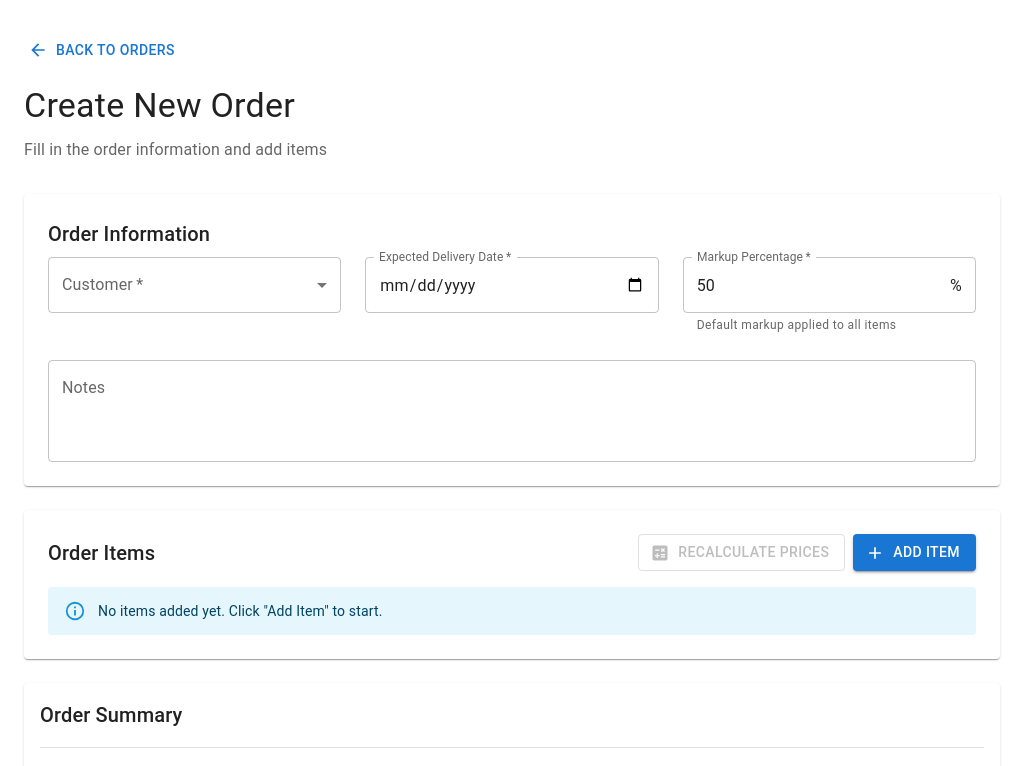
OrderForm Page › Dynamic Order Items Array › removes all items shows "no items" message
Step 1. Click the button "Add Item" → (915, 553), box [853, 534, 976, 571]
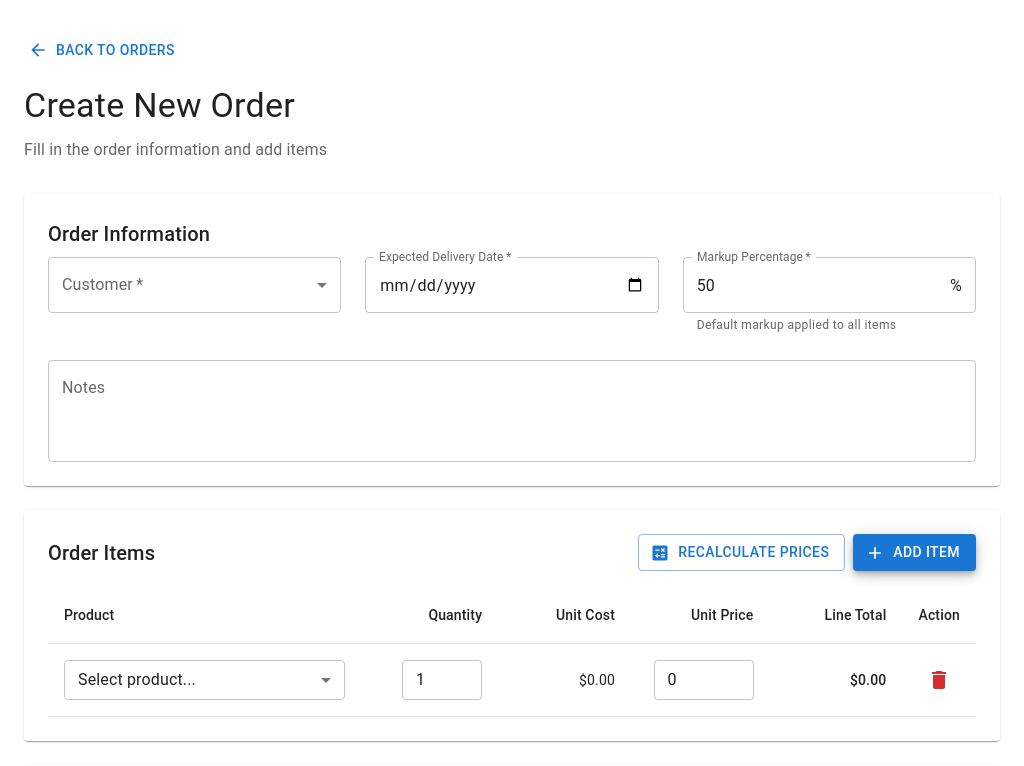
Expected: the table is shown, [48, 587, 976, 717]
Step 2. Click the 4th button → (939, 680), box [922, 663, 956, 697]
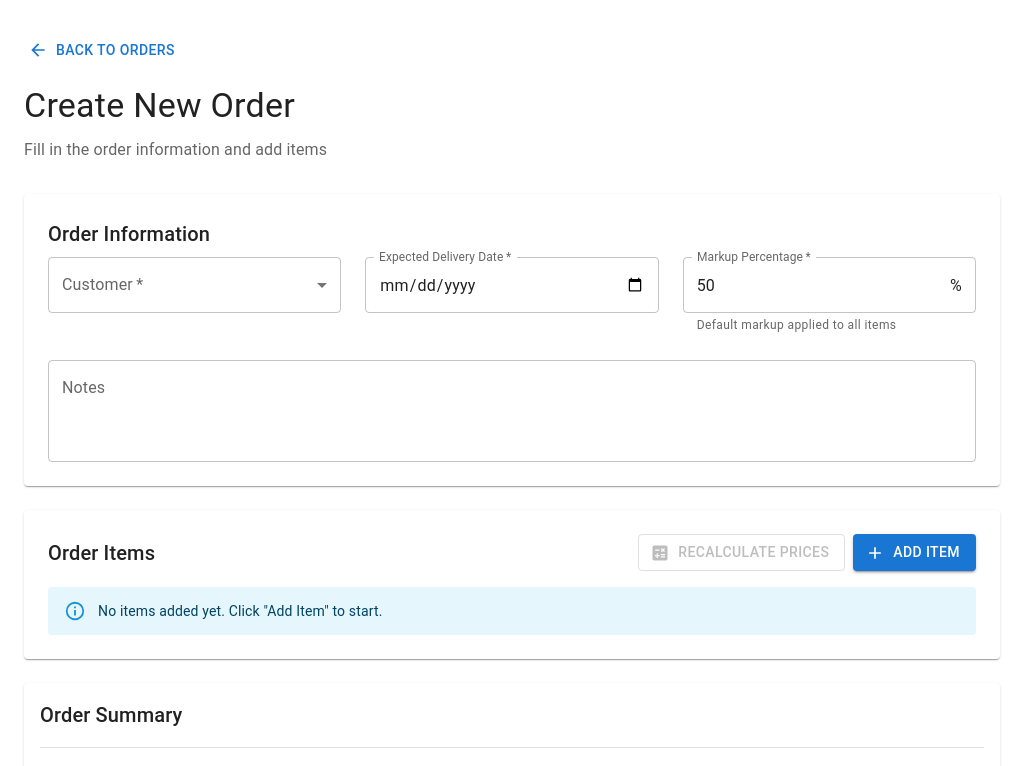
Expected: the text "No items added yet. Click \"Add Item\" to start." is shown, [98, 603, 382, 619]
